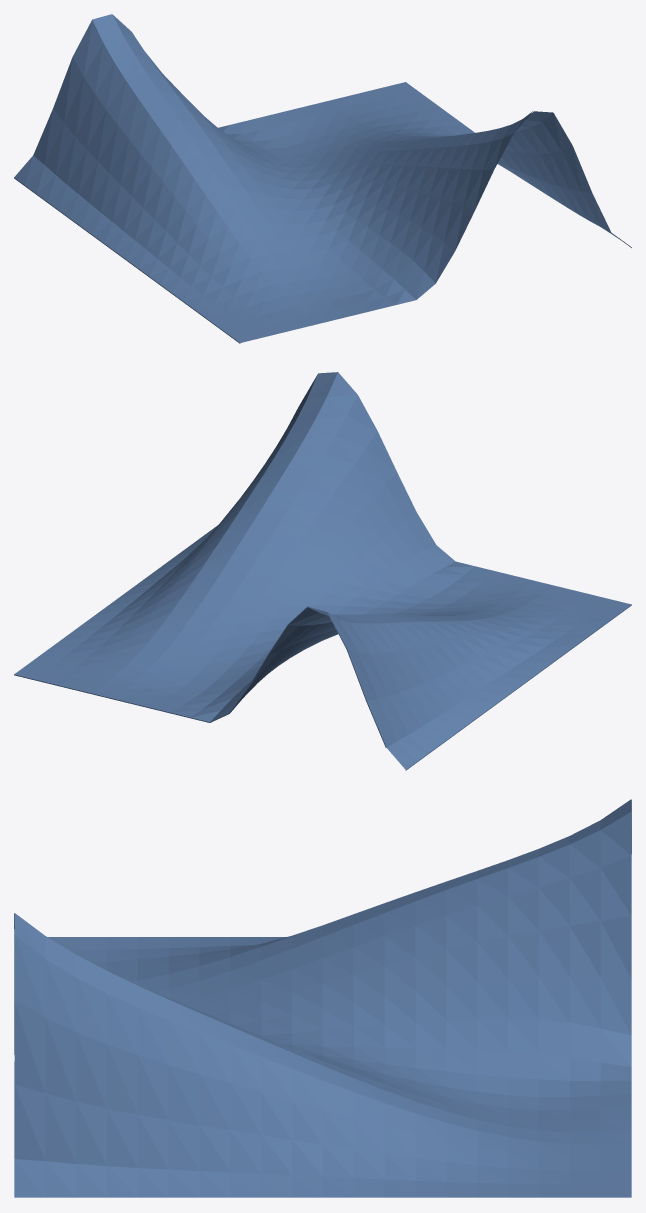
Rendered from shell.glb.
3 renders of one model, top to bottom at view 1: azimuth 30°, elevation 25°; view 2: azimuth 150°, elevation 25°; view 3: azimuth 270°, elevation 25°, orthographic. The views are drawn at different scales.
Visible parts, largest first — view 1: RetainedMesh/shell_6; view 2: RetainedMesh/shell_6; view 3: RetainedMesh/shell_6.
Part boxes in pixels (box(x1,y1,x2,y2)): RetainedMesh/shell_6: box(14, 14, 631, 343); RetainedMesh/shell_6: box(14, 372, 631, 770); RetainedMesh/shell_6: box(14, 799, 631, 1197).
Bounding box in the file's own units: 0.1 × 0.0401 × 0.1001.
